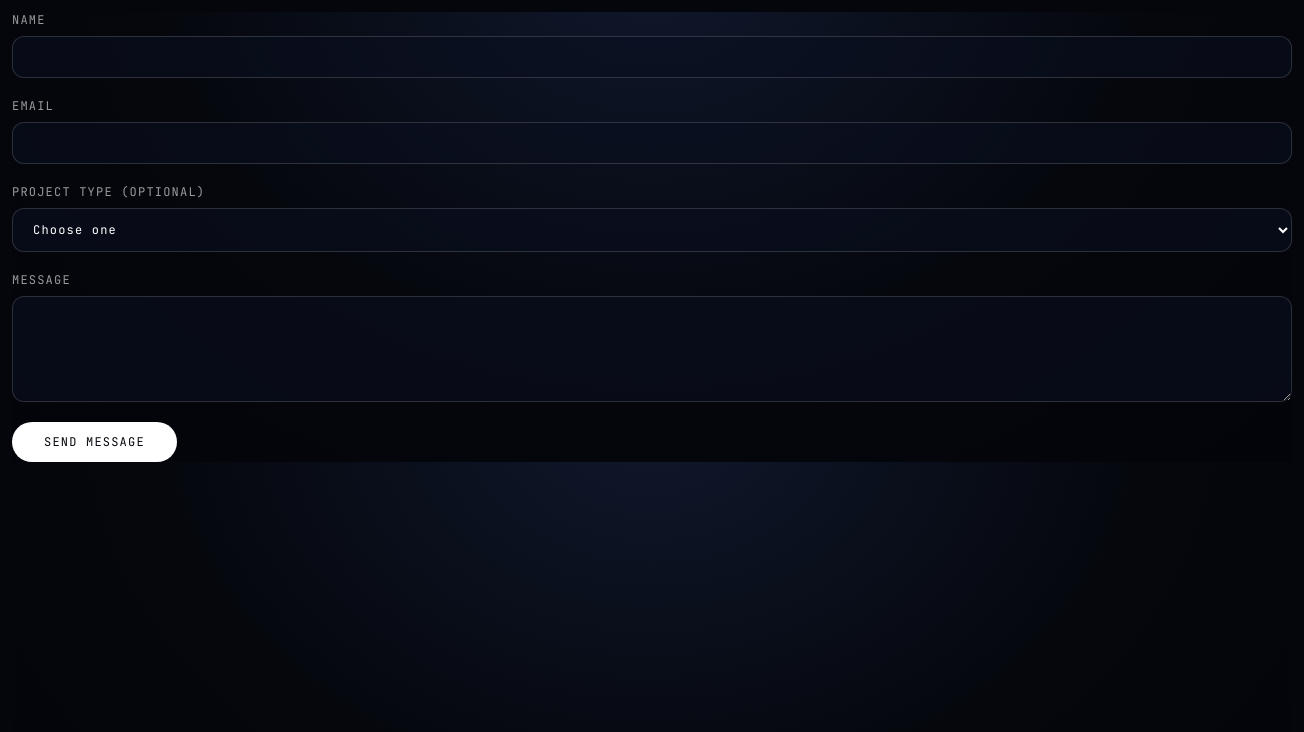
Test: ContactForm › shows validation errors and does not submit when fields are empty
Step 1. Click the button "SEND MESSAGE" → (94, 442), box [12,422,177,462]
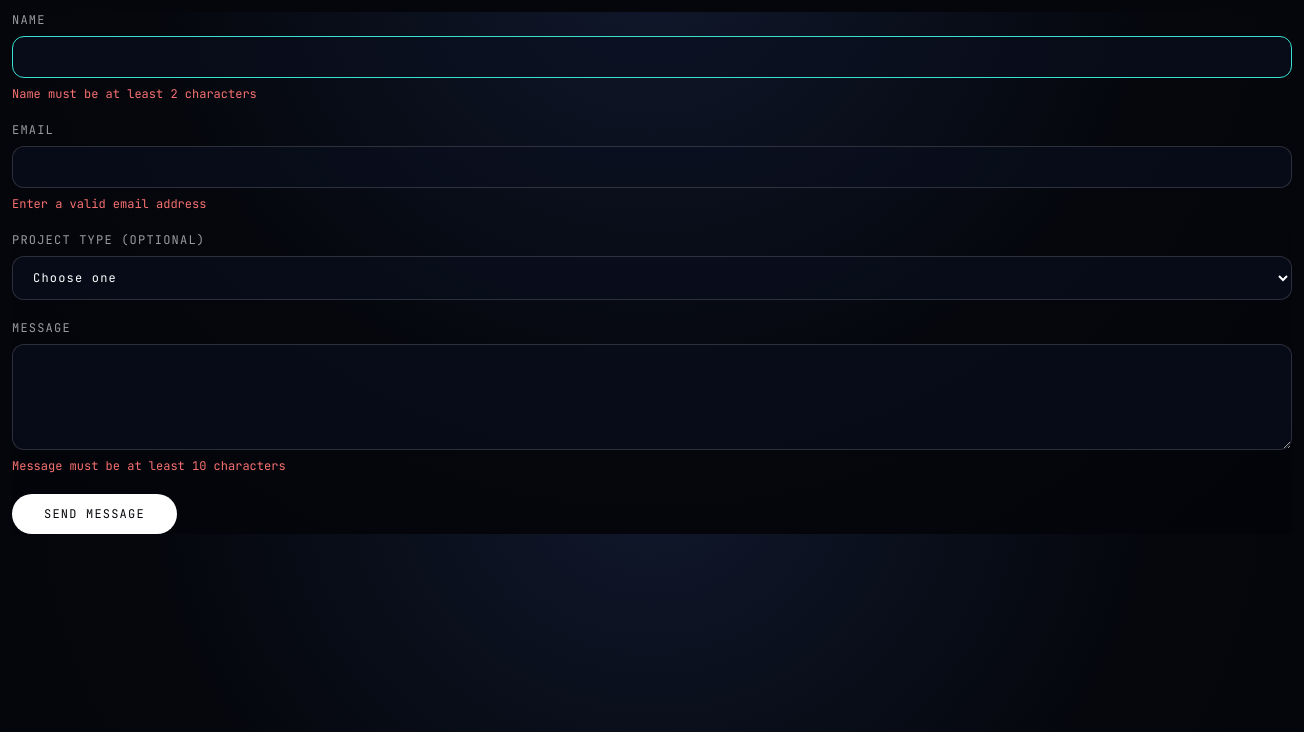
Expected: the message "Name must be at least 2 characters" is shown, [12,86,257,102]
